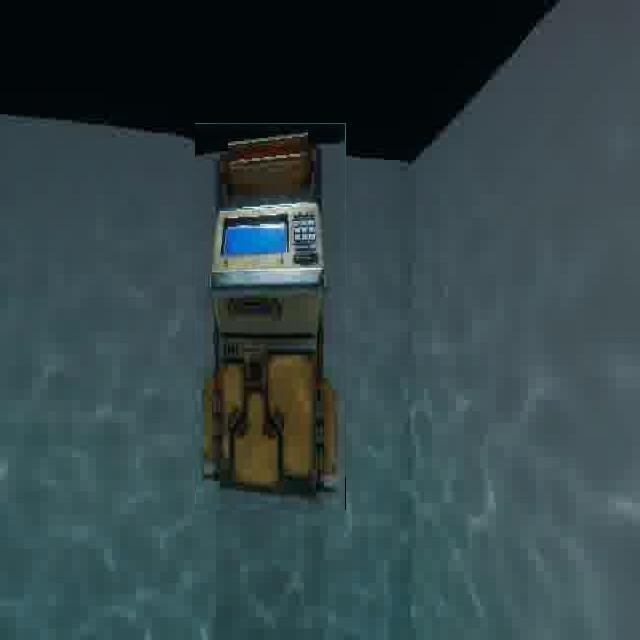Control Panel: (195, 123, 346, 510)
